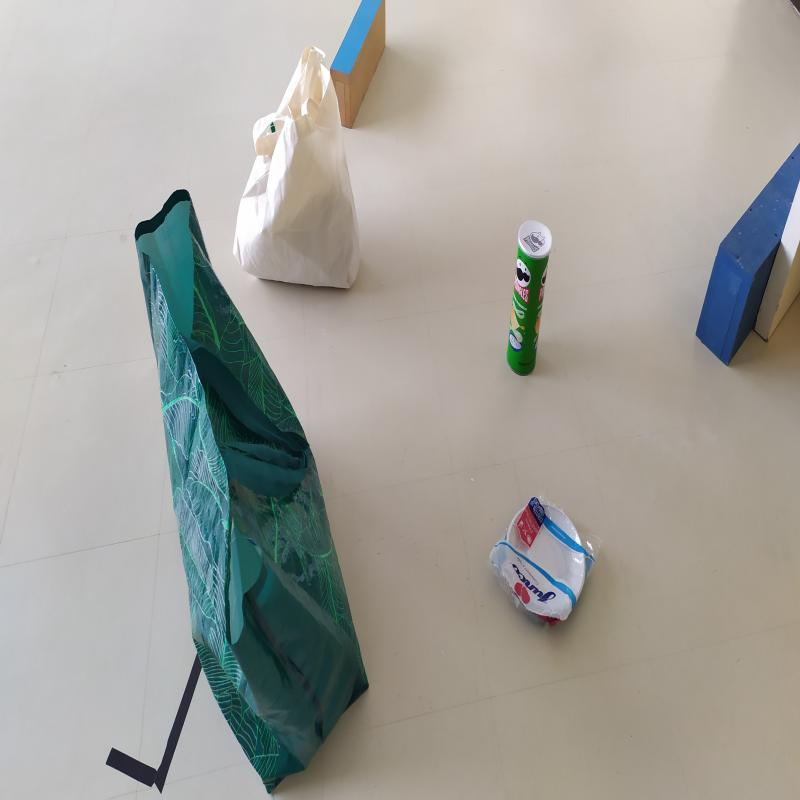Bag: (129, 200, 376, 800), (230, 50, 360, 287)
Plate: (499, 496, 586, 636)
Pringles: (503, 222, 552, 384)
